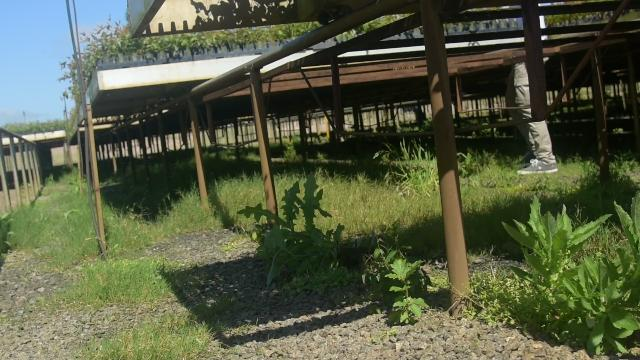MalezaMontesDelPlata: (501, 192, 607, 324), (234, 169, 356, 281), (43, 252, 194, 315), (548, 257, 640, 360), (360, 230, 436, 329), (84, 314, 234, 360), (99, 189, 200, 255), (464, 258, 543, 326), (380, 142, 441, 207), (7, 207, 94, 252), (455, 152, 517, 193)
